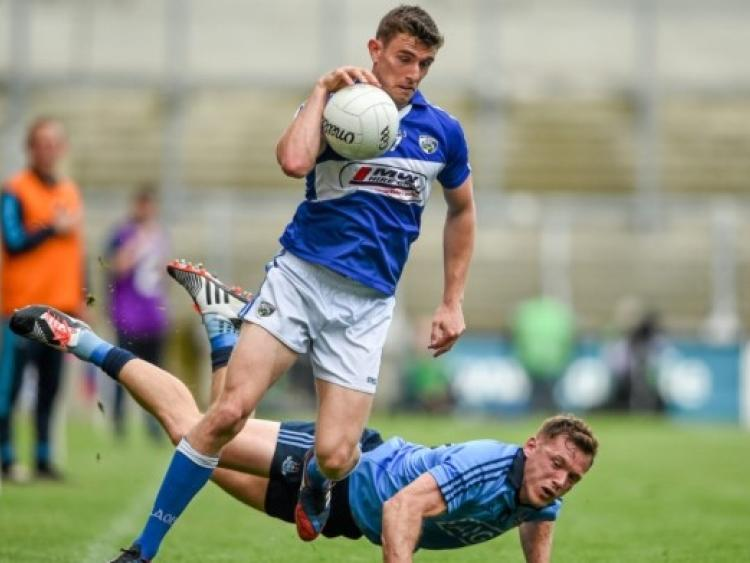ball: (320, 87, 394, 156)
player: (268, 2, 470, 488), (111, 332, 597, 532)
